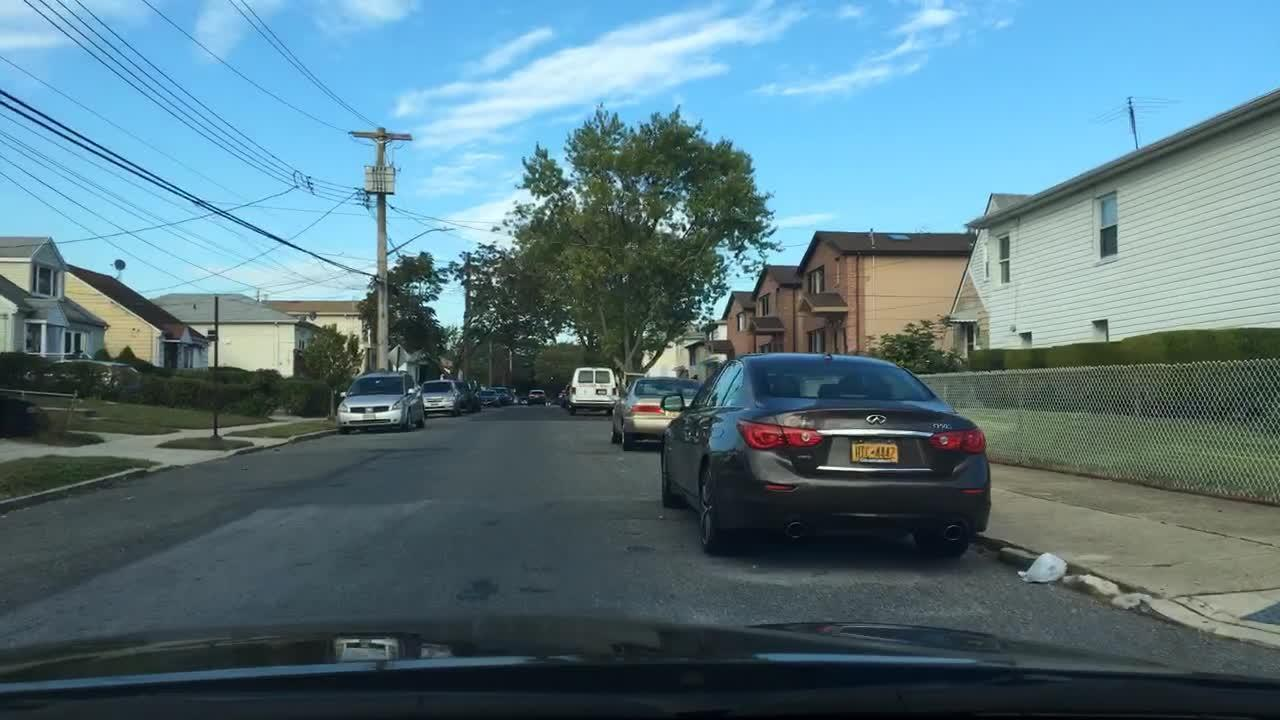Infiniti: (864, 411, 889, 427)
